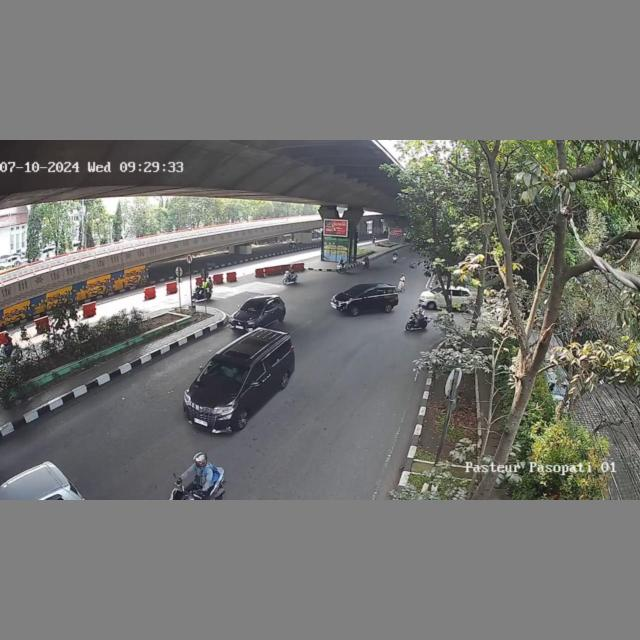windshield: (196, 357, 252, 394), (242, 302, 263, 313)
